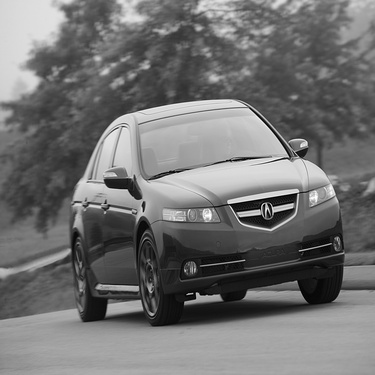car: (62, 94, 351, 331)
